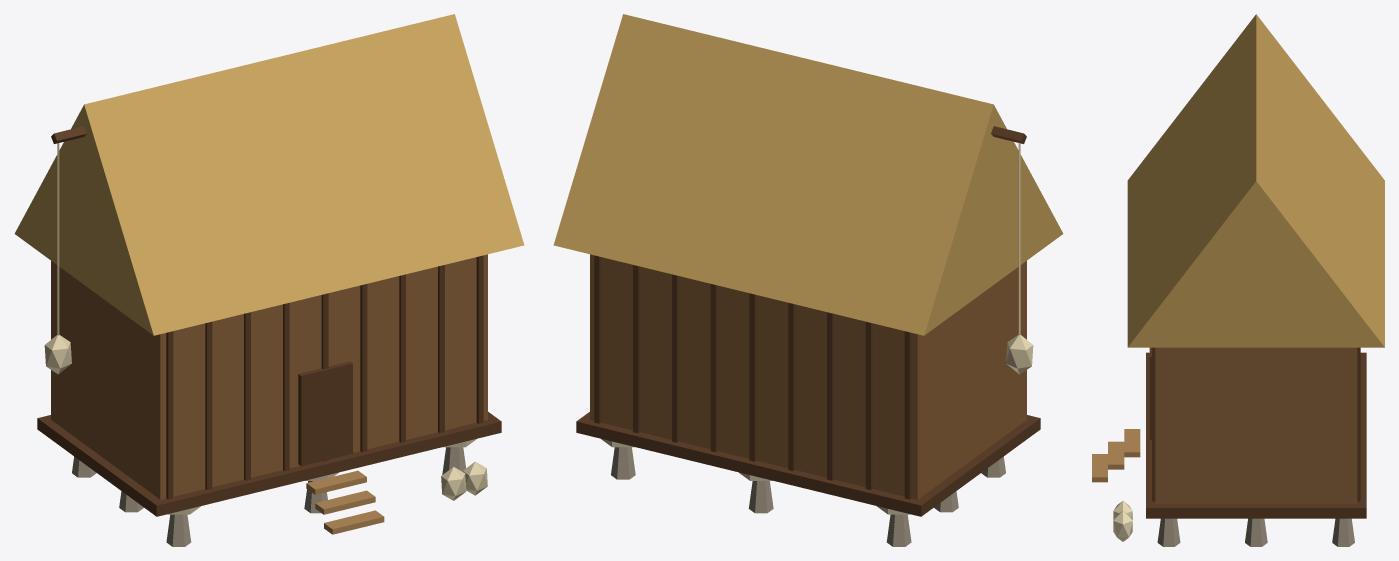
Rendered from building_granary.glb.
3 views of the same model, side by side, from view 1: azimuth 30°, elevation 25°; view 2: azimuth 150°, elevation 25°; view 3: azimuth 270°, elevation 25° (orthographic). The views are drawn at different scales.
Visible parts, largest first — view 1: building_granary; view 2: building_granary; view 3: building_granary.
Boxes of the visible parts, box(x1,y1,x2,y2) form: building_granary: box(14, 14, 524, 546); building_granary: box(553, 14, 1063, 546); building_granary: box(1092, 14, 1384, 546).
Size of the model in its own units: 9.49 by 9.23 by 6.37.
